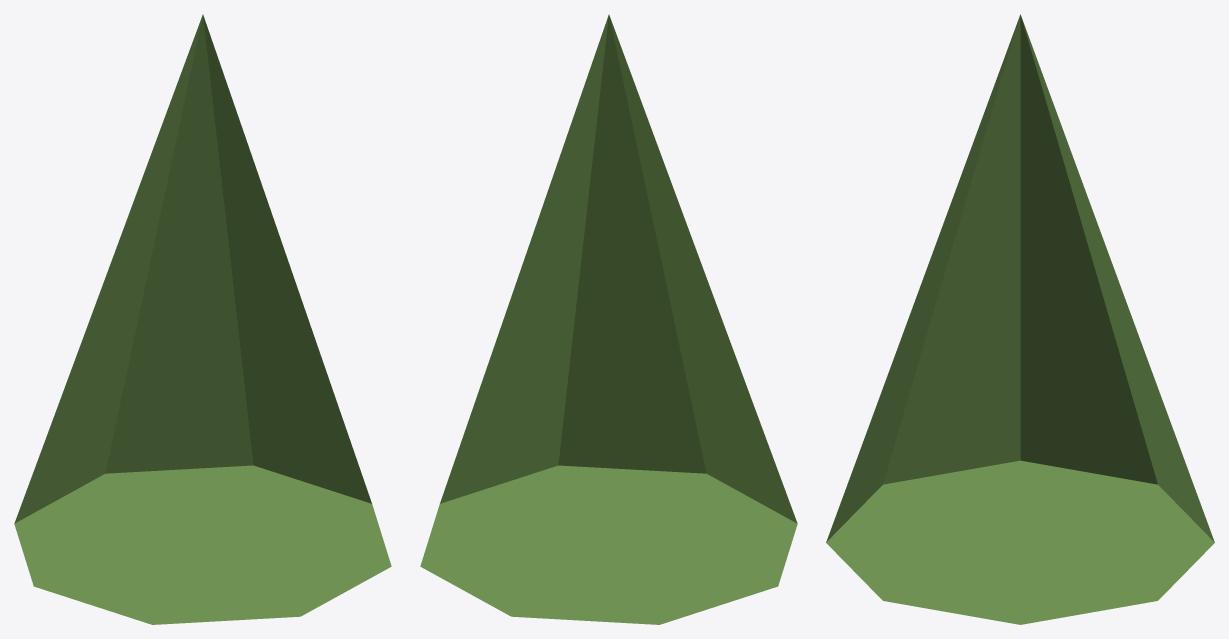
The model's file is tree_oak.glb.
3 renders of one model, left to right at view 1: azimuth 30°, elevation 25°; view 2: azimuth 150°, elevation 25°; view 3: azimuth 270°, elevation 25°, orthographic.
Parts seen in each view (by area): view 1: Oak; view 2: Oak; view 3: Oak.
Boxes of the visible parts, x1=… form: Oak: x1=14, y1=14, x2=391, y2=624; Oak: x1=420, y1=14, x2=797, y2=624; Oak: x1=826, y1=14, x2=1214, y2=624.
Bounding box in the file's own units: 1.2 × 1.8 × 1.2.
